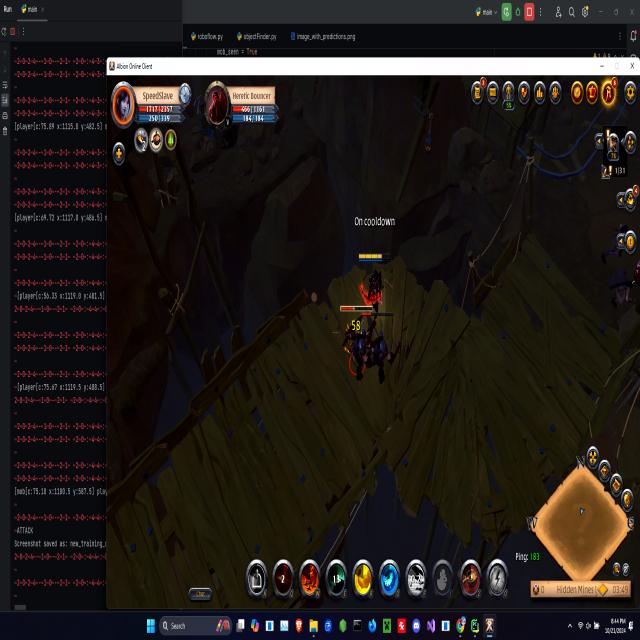ore: (359, 308, 403, 390), (339, 300, 380, 387), (600, 220, 630, 268), (607, 270, 634, 311)
red: (356, 250, 389, 312)
